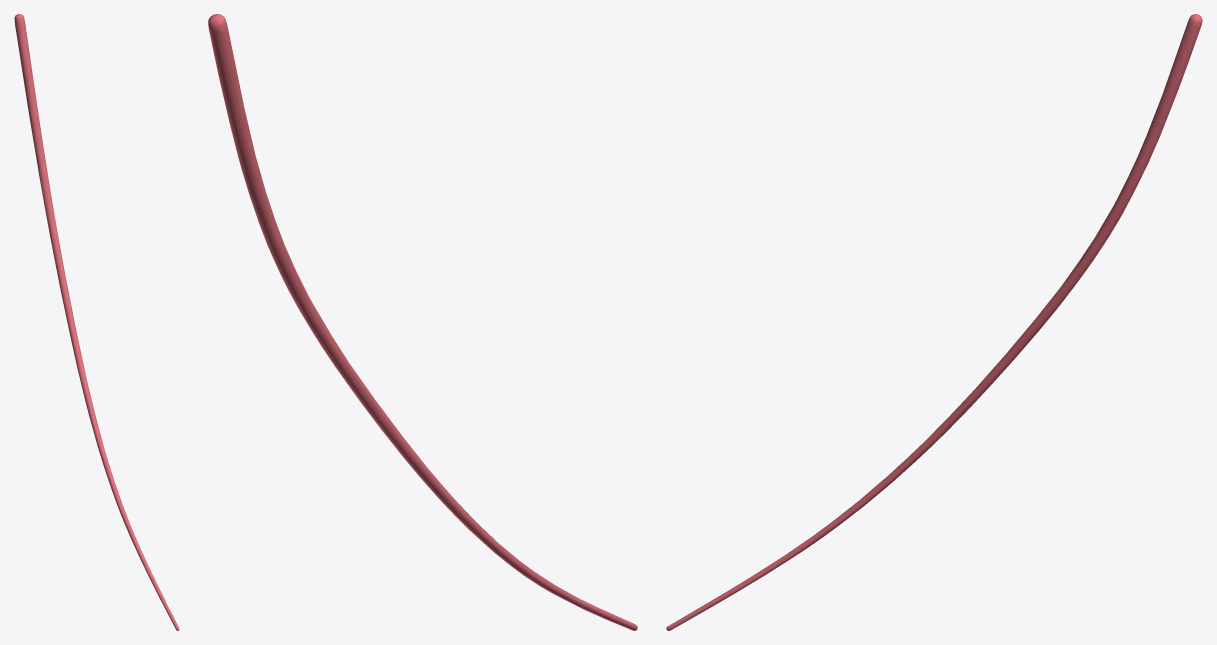
File: fma85098_fj2356.glb
3 views of the same model, side by side, from view 1: azimuth 30°, elevation 25°; view 2: azimuth 150°, elevation 25°; view 3: azimuth 270°, elevation 25° (orthographic). The views are drawn at different scales.
Parts seen in each view (by area): view 1: FMA85098_FJ2356; view 2: FMA85098_FJ2356; view 3: FMA85098_FJ2356.
Boxes of the visible parts, x1=… form: FMA85098_FJ2356: x1=14, y1=14, x2=179, y2=630; FMA85098_FJ2356: x1=208, y1=14, x2=637, y2=630; FMA85098_FJ2356: x1=666, y1=14, x2=1202, y2=630.
Size of the model in its own units: 0.00616 by 0.0685 by 0.0521.
